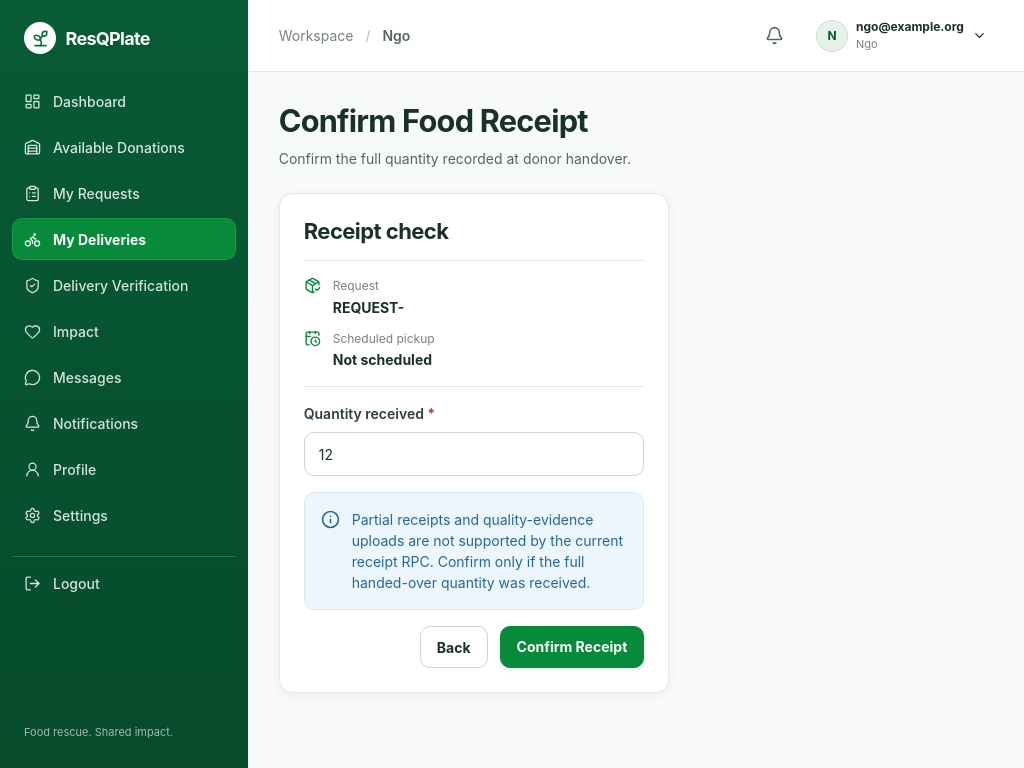
it: NGO in-app delivery verification › displays receipt RPC errors without showing false success
Click the button "Confirm Receipt" at (572, 647), box [500,626,644,668]
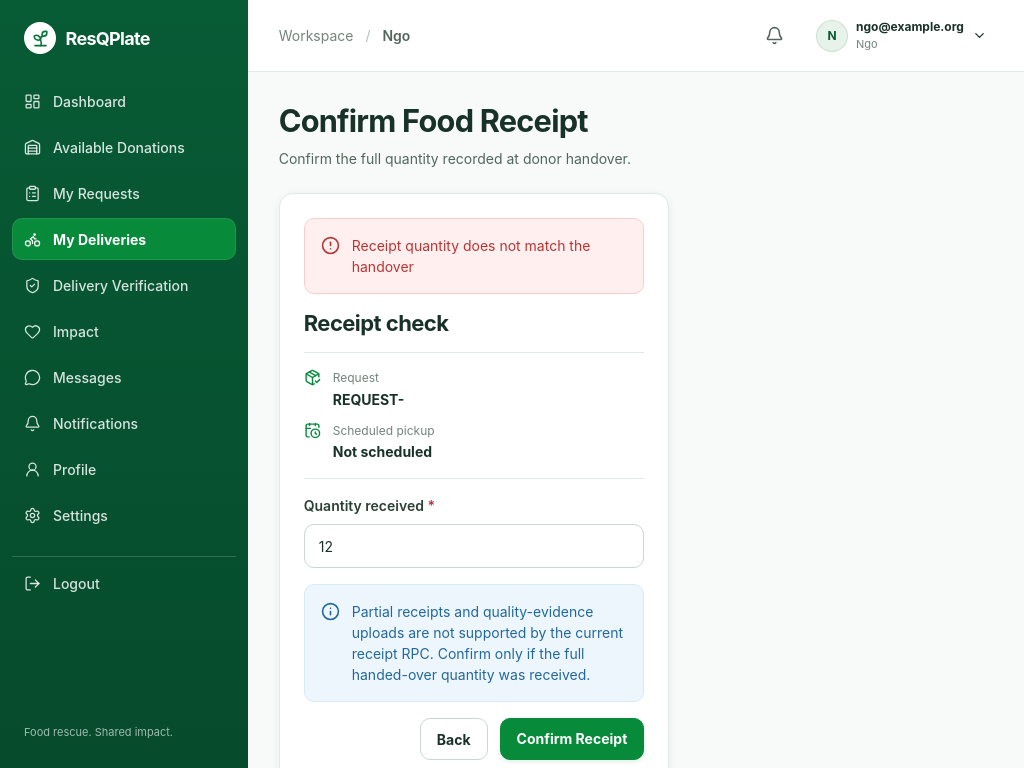
Expected: the text "Receipt quantity does not match the handover" is shown, [352,235,627,277]
